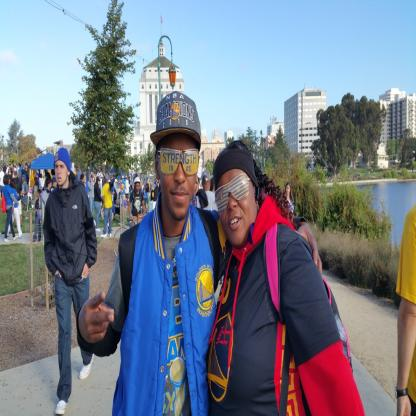Helmet: (134, 174, 141, 194)
